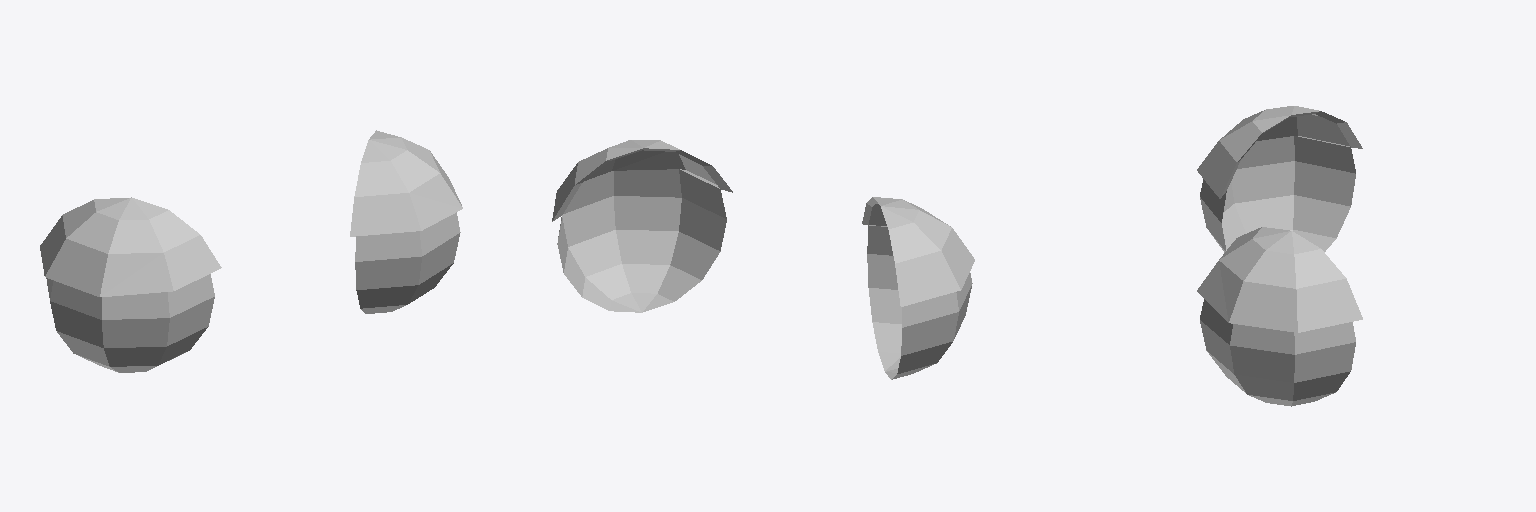
Rendered from eyes_normal.obj.
3 views of the same model, side by side, from view 1: azimuth 30°, elevation 25°; view 2: azimuth 150°, elevation 25°; view 3: azimuth 270°, elevation 25° (orthographic).
Parts seen in each view (by area): view 1: Sphere; view 2: Sphere; view 3: Sphere.
Boxes of the visible parts, x1,y1,x2,y2 form: Sphere: [40, 130, 462, 372]; Sphere: [552, 140, 974, 379]; Sphere: [1197, 106, 1362, 406].
Size of the model in its own units: 0.3713 by 0.1458 by 0.1326.